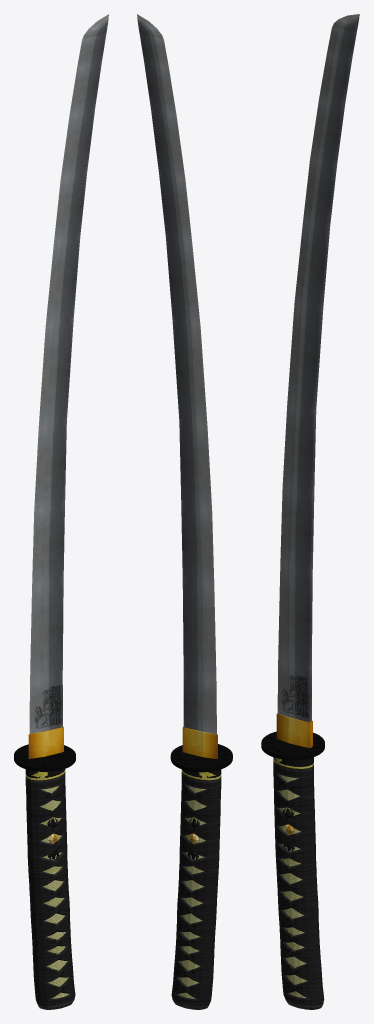
The model's file is HattoriHanzo2.0.obj.
3 views of the same model, side by side, from view 1: azimuth 30°, elevation 25°; view 2: azimuth 150°, elevation 25°; view 3: azimuth 330°, elevation 25° (orthographic). The views are drawn at different scales.
Parts seen in each view (by area): view 1: HattoriHanzo2.0; view 2: HattoriHanzo2.0; view 3: HattoriHanzo2.0.
Part boxes in pixels (<box>): HattoriHanzo2.0: <box>14,14,108,1009</box>; HattoriHanzo2.0: <box>137,14,232,1009</box>; HattoriHanzo2.0: <box>261,14,359,1009</box>.
Size of the model in its own units: 0.1076 by 1.1 by 0.0634.
